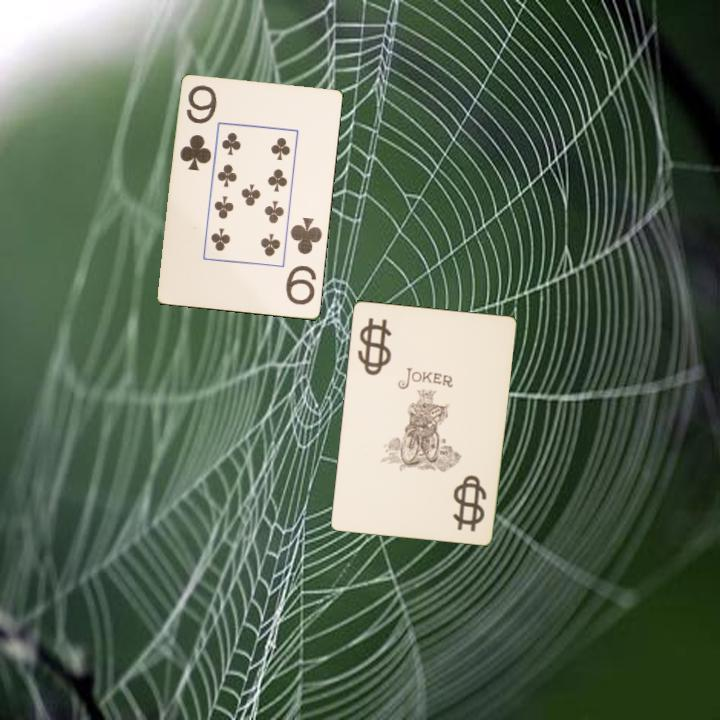9c: (176, 82, 220, 174), (282, 214, 325, 308)
JK: (453, 471, 489, 534), (359, 324, 385, 374)
